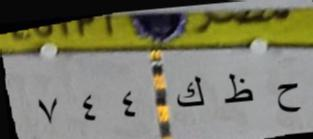4: (120, 88, 138, 122), (80, 90, 98, 124)
7: (34, 94, 60, 127)
7aa: (272, 80, 304, 117)
Thaa: (216, 69, 256, 112)
kaaf: (174, 74, 207, 112)
